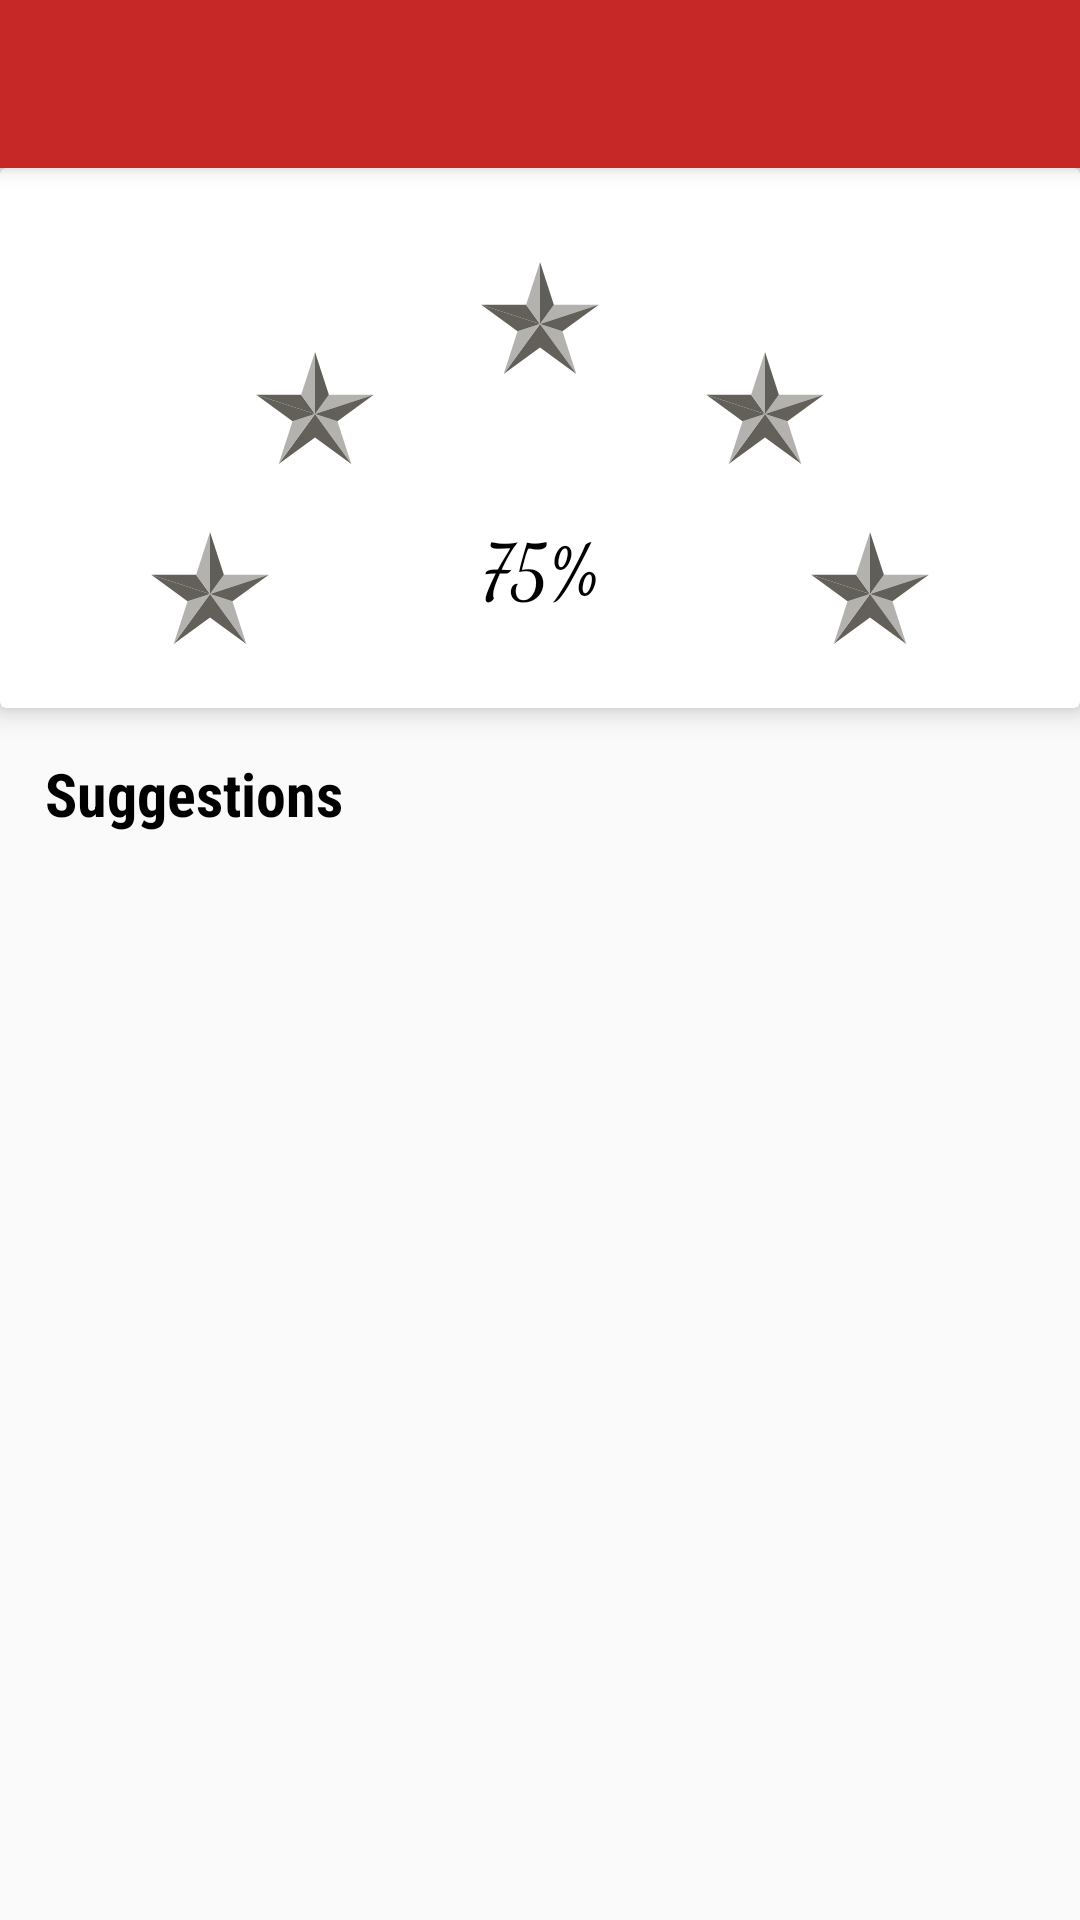

Named icons in this screenshot (1080px×1920px) and their centers, point (x, y):
star greyed: point (540, 318), point (315, 408), point (765, 408), point (210, 588), point (870, 588)
